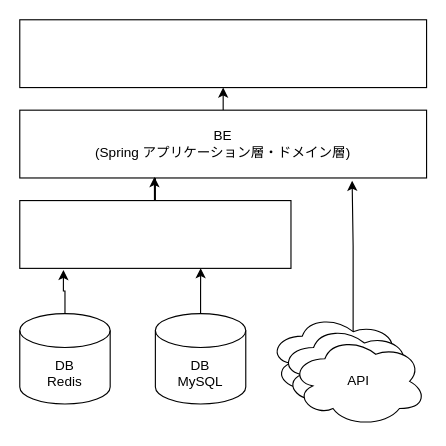
Some shapes in this 446 by 446 pixel diagram are drawn without their labels. The shapes that lost their labels are listed below. From the top down, each one's centre as x and y in pixels, then its label:
point (223, 53): FE (html + css + Vue)
point (155, 233): BE (Spring インフラ層)
